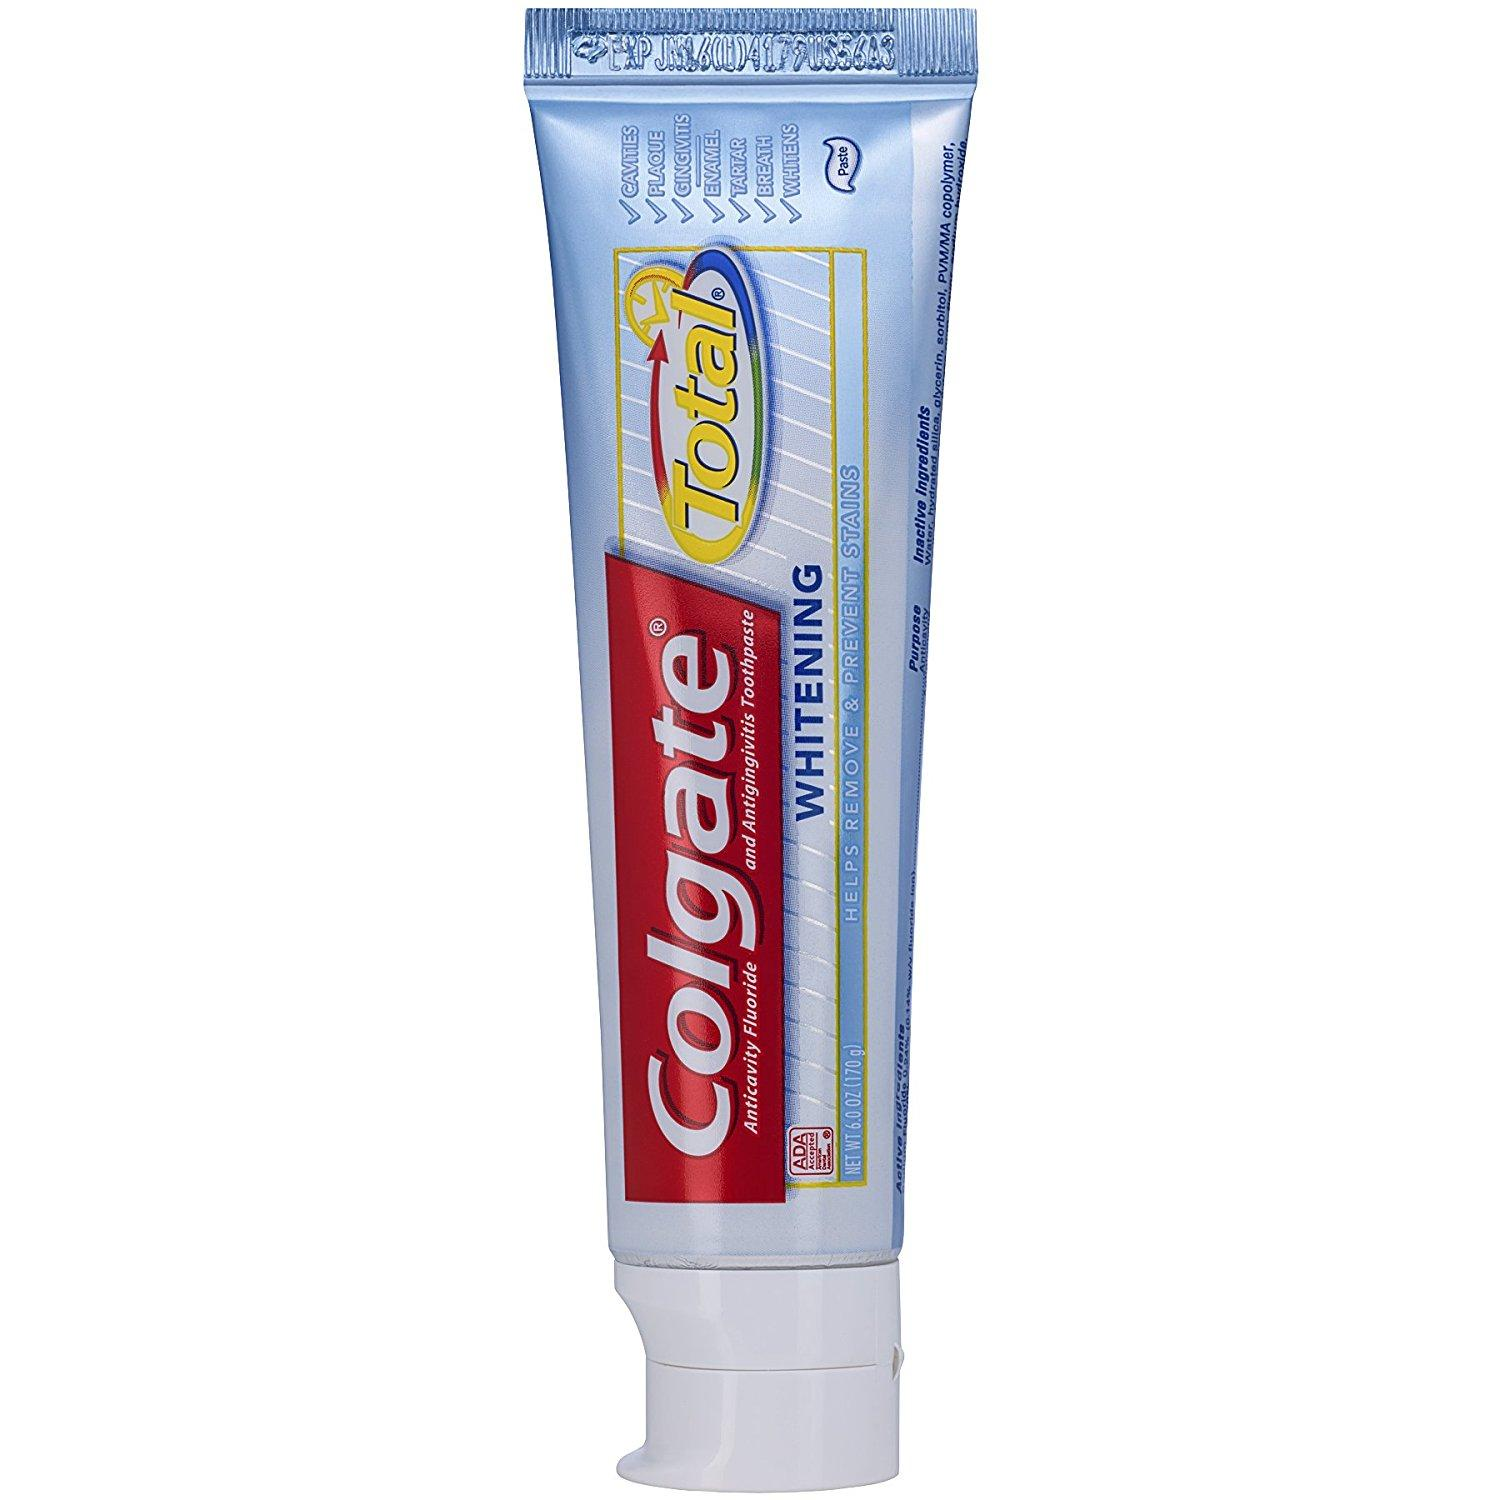toothpaste: (515, 8, 1074, 1500)
